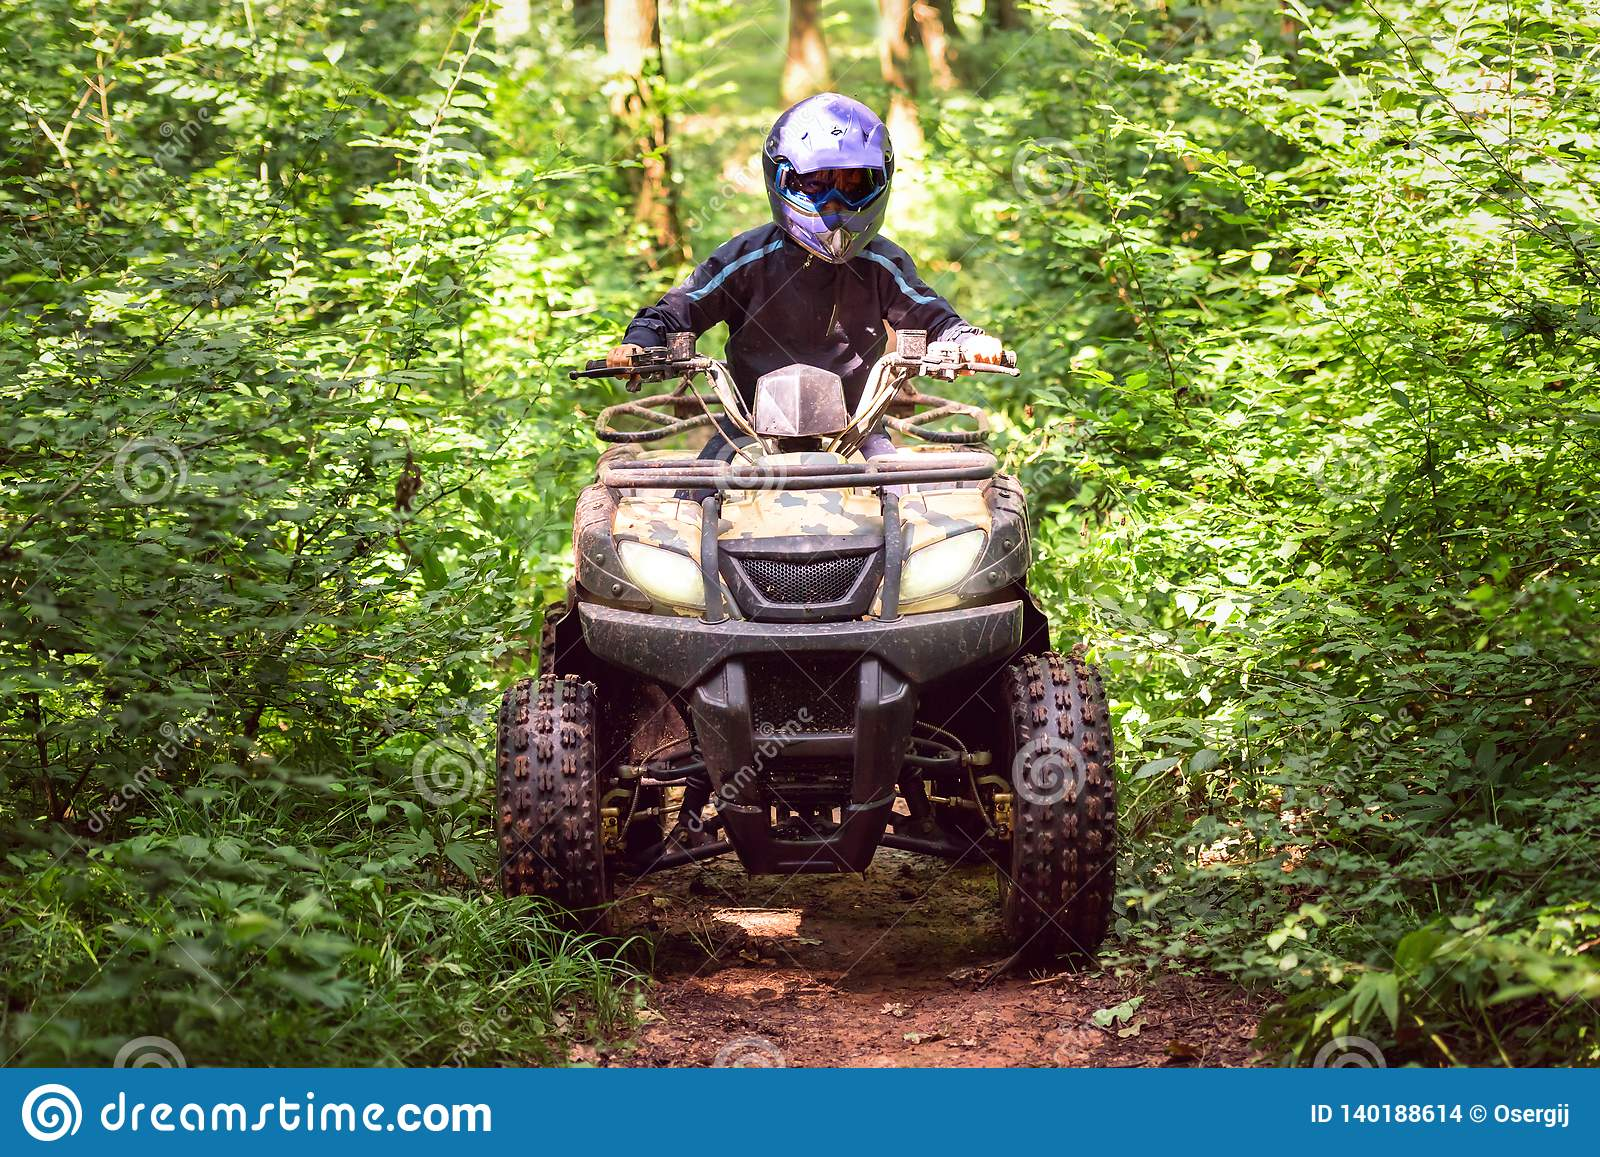helmet: (757, 85, 893, 270)
